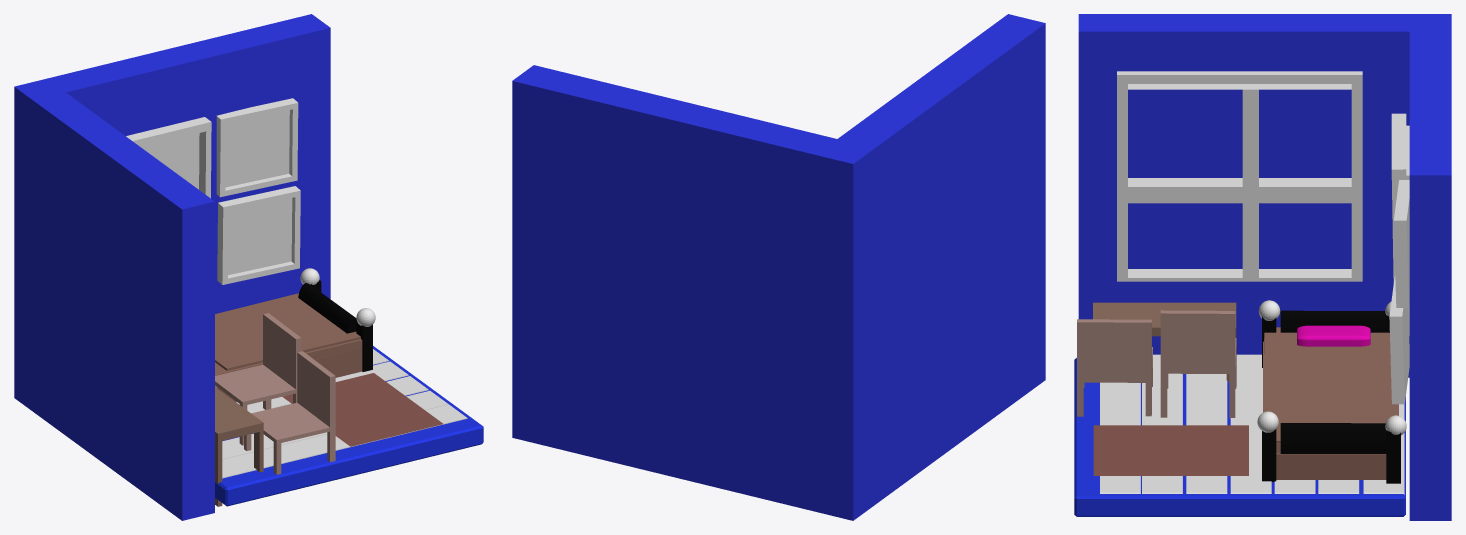
File: Solo Room .fbx
The picture shows the model from 3 angles, left to right: view 1: azimuth 30°, elevation 25°; view 2: azimuth 150°, elevation 25°; view 3: azimuth 270°, elevation 25°; orthographic projection. The views are drawn at different scales.
Parts seen in each view (by area): view 1: wals, Plane.009, Plane.012, Plane, Plane.010, Plane.013, Plane.008, Plane.001, Plane.011, Cylinder, Plane.002, Plane.004 (+1 smaller); view 2: wals; view 3: wals, Cube, Plane.010, Plane, Plane.012, Plane.013, Plane.009, Cylinder, Plane.004, Plane.003, Plane.001, Plane.002 (+9 smaller).
Part boxes in pixels (x1,y1,x2,y2): wals: [14, 14, 330, 520]; Plane.009: [216, 98, 300, 284]; Plane.012: [215, 313, 335, 474]; Plane: [215, 346, 483, 506]; Plane.010: [215, 293, 362, 402]; Plane.013: [282, 373, 443, 446]; Plane.008: [126, 117, 211, 198]; Plane.001: [222, 404, 467, 478]; Plane.011: [215, 387, 263, 506]; Cylinder: [298, 283, 356, 333]; Plane.002: [222, 390, 448, 459]; Plane.004: [236, 361, 408, 413]; wals: [512, 14, 1045, 520]; wals: [1078, 14, 1451, 520]; Cube: [1117, 71, 1362, 281]; Plane.010: [1263, 327, 1398, 479]; Plane: [1074, 358, 1405, 516]; Plane.012: [1077, 310, 1236, 418]; Plane.013: [1093, 425, 1248, 475]; Plane.009: [1389, 180, 1409, 404]; Cylinder: [1280, 423, 1386, 453]; Plane.004: [1230, 354, 1271, 493]; Plane.003: [1186, 374, 1227, 493]; Plane.001: [1100, 382, 1140, 493]; Plane.002: [1142, 354, 1182, 493].
Size of the model in its own units: 1030 by 1022 by 1007.
